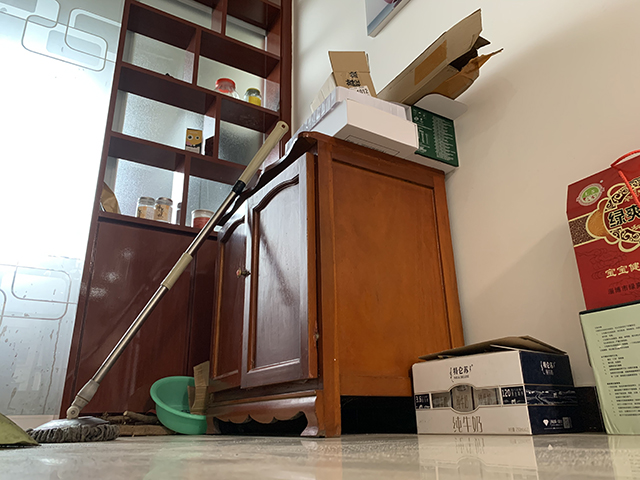cabinet: (57, 1, 295, 419), (204, 130, 467, 437)
